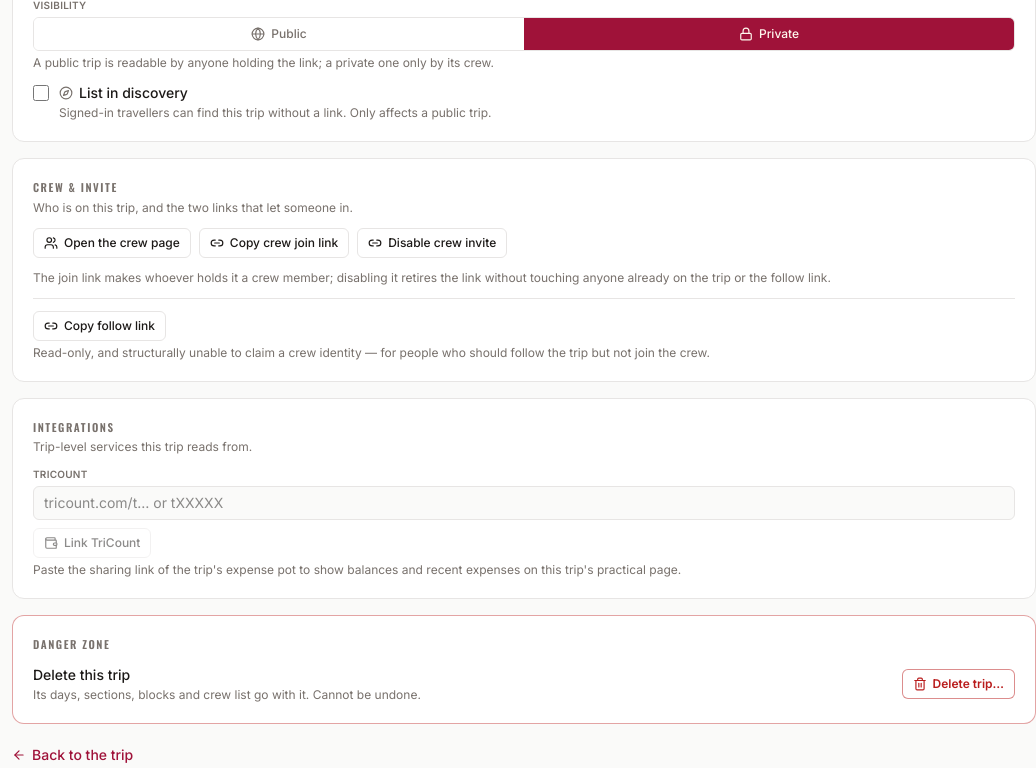
Test: SettingsPage — danger zone › a non-owner (the role moved under them) is told why, and stays
The width and height of the screenshot is (1036, 768).
(page scrolled)
Click the button "Delete trip…". click: point(958, 684)
box: [902, 668, 1015, 698]
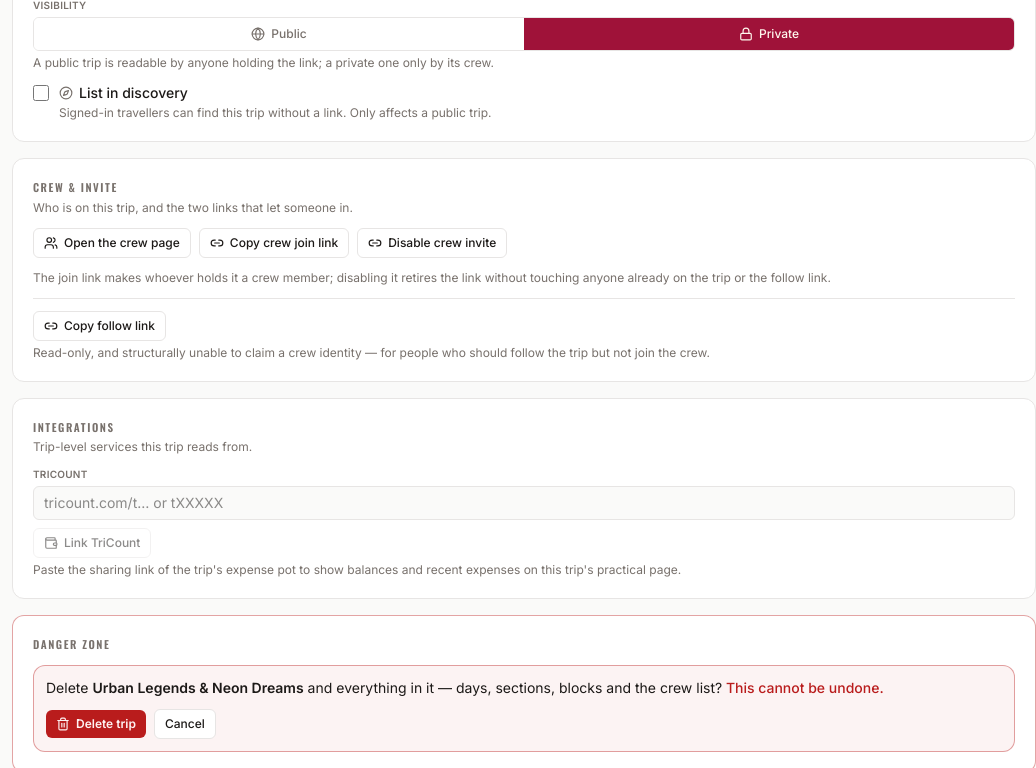
Click the button "Delete trip". click: point(96, 724)
box: [46, 710, 146, 738]
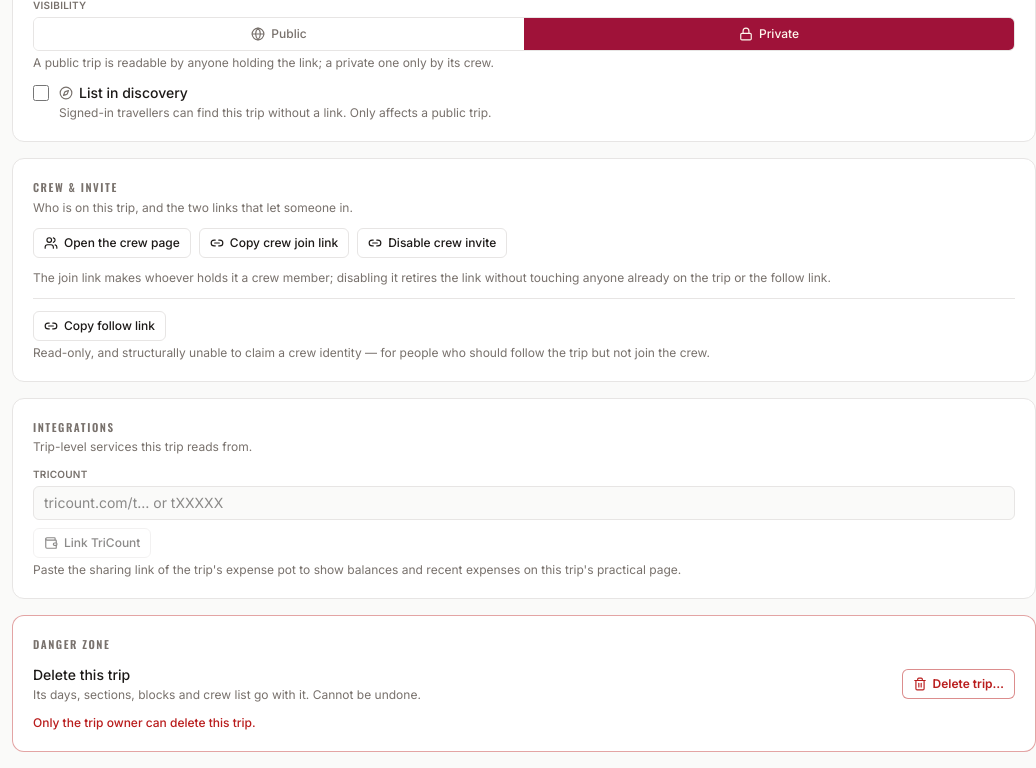
Check: the text "Only the trip owner can delete this trip." is shown, box [33, 714, 256, 730]
